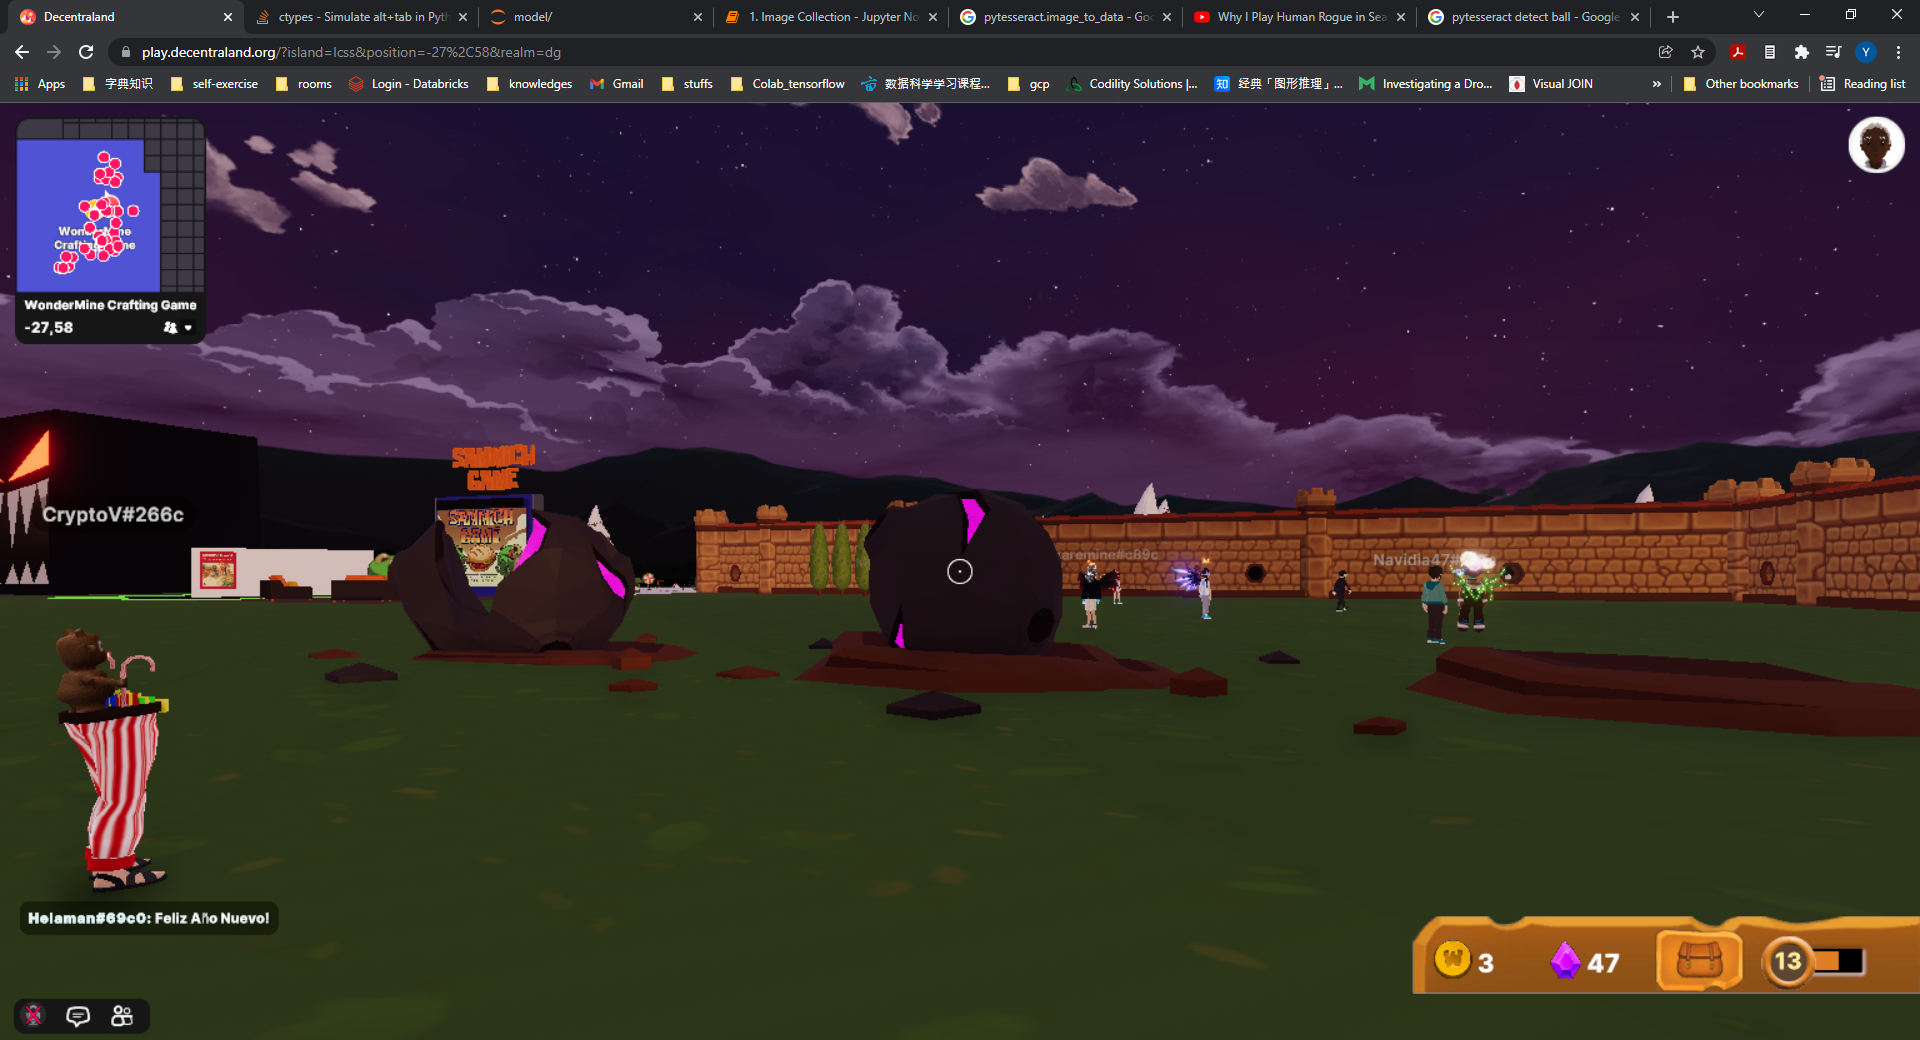black_ball: (861, 482, 1069, 671)
